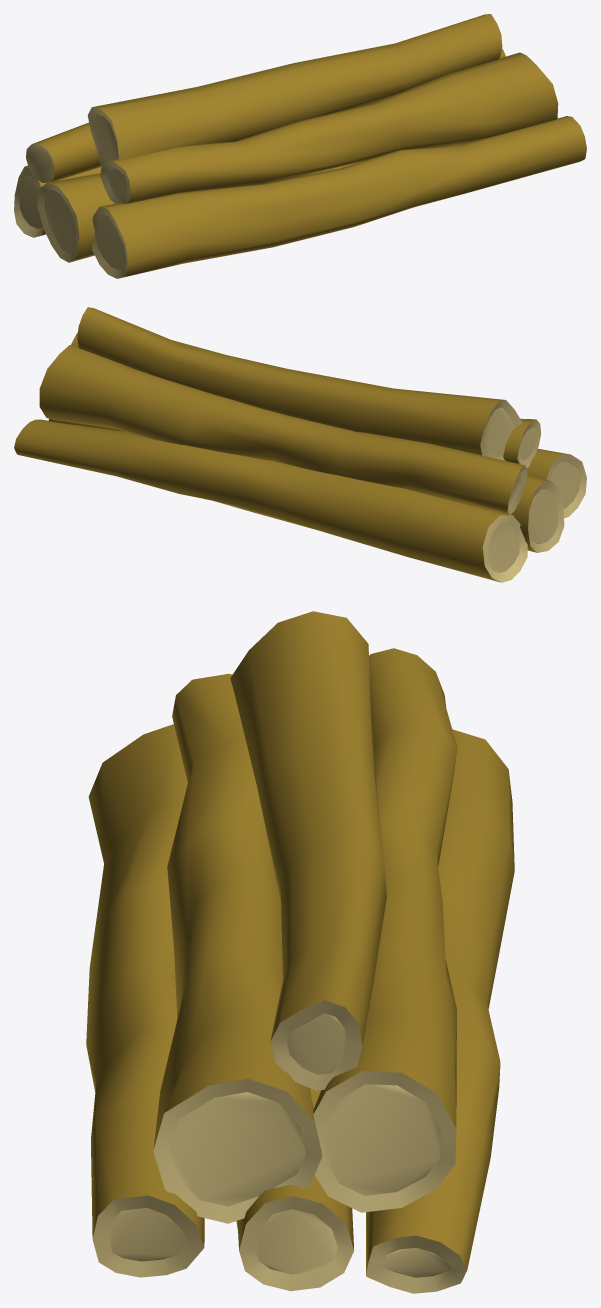
File: LOG-STACK-LARGE.glb
3 renders of one model, top to bottom at view 1: azimuth 30°, elevation 25°; view 2: azimuth 150°, elevation 25°; view 3: azimuth 270°, elevation 25°, orthographic. The views are drawn at different scales.
Visible parts, largest first — view 1: LOG STACK LARGE; view 2: LOG STACK LARGE; view 3: LOG STACK LARGE.
Part boxes in pixels (bbox=[...]): LOG STACK LARGE: bbox=[14, 14, 586, 278]; LOG STACK LARGE: bbox=[14, 307, 586, 582]; LOG STACK LARGE: bbox=[86, 611, 514, 1293].
Bounding box in the file's own units: 3.56 × 0.9712 × 1.38.
